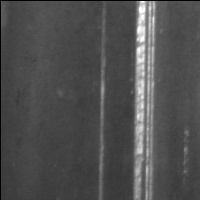scratches: (130, 1, 160, 200), (94, 1, 110, 200)
